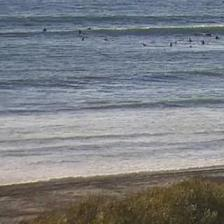surfer: (103, 38, 113, 42), (205, 32, 212, 37), (215, 35, 221, 40), (188, 37, 194, 42), (80, 36, 86, 41), (142, 43, 149, 47), (43, 27, 48, 32), (78, 29, 82, 35), (201, 40, 205, 45), (170, 42, 174, 47), (86, 27, 91, 31), (189, 45, 193, 48)
